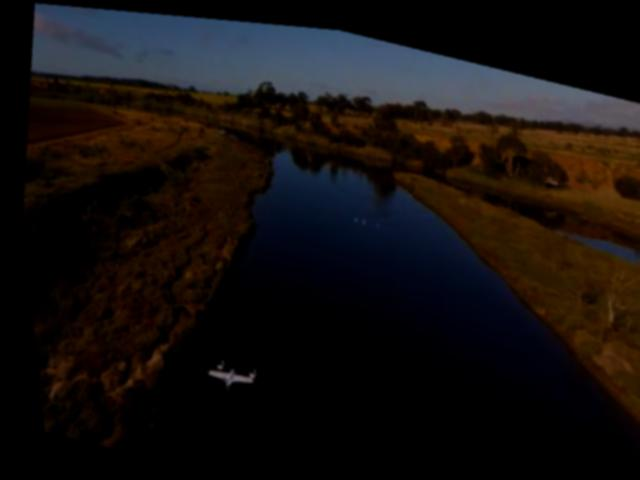uav: (194, 356, 248, 398)
